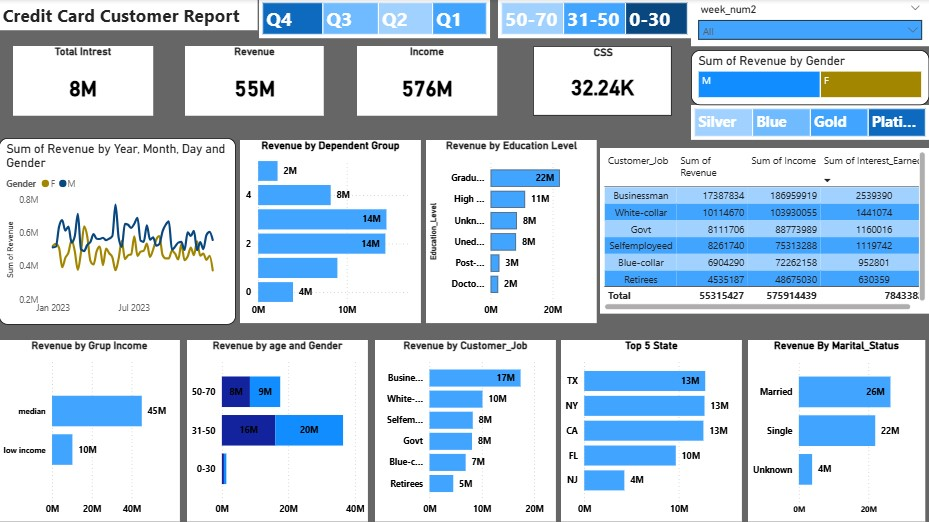

The dashboard page shown, as its layout file describes it:
{"tool":"powerbi","page":{"name":"c_customerc","canvas":[1280,720],"ordinal":1},"visuals":[{"type":"barChart","title":"Revenue by Grup Income","fields":{"Category":["customer.Grup_by_income"],"Y":["Sum(credit_card.Revenue)"]},"box":[0,469.3,249.1,250.5],"z":0},{"type":"tableEx","fields":{"Values":["customer.Customer_Job","Sum(credit_card.Revenue)","Sum(customer.Income)","Sum(credit_card.Interest_Earned)"]},"box":[827.2,205.1,452.8,228.5],"z":1000},{"type":"card","title":"Revenue","fields":{"Values":["Sum(credit_card.Revenue)"]},"box":[326.2,64.7,191.3,96.3],"z":2000},{"type":"card","title":"CSS","fields":{"Values":["Sum(customer.Cust_Satisfaction_Score)"]},"box":[744.6,64.7,191.3,96.3],"z":3000},{"type":"card","title":"Total Intrest","fields":{"Values":["Sum(credit_card.Interest_Earned)"]},"box":[125.2,60.6,192.7,96.3],"z":4000},{"type":"card","title":"Income","fields":{"Values":["Sum(customer.Income)"]},"box":[538.2,64.7,192.7,96.3],"z":5000},{"type":"textbox","box":[0,0,356.5,42.7],"z":6000},{"type":"slicer","fields":{"Values":["credit_card.week_num2"]},"box":[952.4,0,327.6,64.7],"z":7000},{"type":"treemap","fields":{"Group":["credit_card.Qtr"],"Values":["Avg(credit_card.Client_Num)"]},"box":[357.8,0,317.9,53.7],"z":8000},{"type":"treemap","fields":{"Values":["Avg(credit_card.Client_Num)"],"Group":["customer.Grup_by_age"]},"box":[686.8,0,265.6,53.7],"z":9000},{"type":"treemap","fields":{"Values":["Avg(credit_card.Client_Num)"],"Group":["credit_card.Card_Category"]},"box":[952.4,145.9,327.6,48.2],"z":10000},{"type":"lineChart","fields":{"Series":["customer.Gender"],"Category":["credit_card.Week_Start_Date.Variation.Date Hierarchy.Year","credit_card.Week_Start_Date.Variation.Date Hierarchy.Month","credit_card.Week_Start_Date.Variation.Date Hierarchy.Day"],"Y":["Sum(credit_card.Revenue)"]},"box":[0,191.3,326.2,257.4],"z":11000},{"type":"treemap","fields":{"Group":["customer.Gender"],"Values":["Sum(credit_card.Revenue)"]},"box":[952.4,70.2,327.6,75.7],"z":12000},{"type":"barChart","title":" Revenue by age and Gender","fields":{"Category":["customer.Grup_by_age"],"Y":["Sum(credit_card.Revenue)"],"Series":["customer.Gender"]},"box":[258.8,469.5,249.1,250.5],"z":13000},{"type":"barChart","title":"Revenue by Customer_Job","fields":{"Category":["customer.Customer_Job"],"Y":["Sum(credit_card.Revenue)"]},"box":[517.5,469.5,249.1,250.5],"z":14000},{"type":"barChart","title":"Revenue by Education Level","fields":{"Category":["customer.Education_Level"],"Y":["Sum(credit_card.Revenue)"]},"box":[587.7,194.1,235.4,251.9],"z":15000},{"type":"barChart","title":"Top 5 State","fields":{"Category":["customer.state_cd"],"Y":["Sum(credit_card.Revenue)"]},"box":[773.5,469.5,249.1,250.5],"z":16000},{"type":"barChart","title":"Revenue by Dependent Group","fields":{"Category":["customer.Dependent_Count"],"Y":["Sum(credit_card.Revenue)"]},"box":[331.7,194.1,249.1,251.9],"z":17000},{"type":"barChart","title":"Revenue By Marital_Status","fields":{"Category":["customer.Marital_Status"],"Y":["Sum(credit_card.Revenue)"]},"box":[1030.9,469.3,243.6,250.5],"z":18000}]}

Visuals, with their boxes in screenshot pixels (x1, y1, x2, y2), scaled from the page's 1280x720 canvas onto the 929x522 screenshot:
"Revenue by Grup Income" barChart: detection(0, 340, 181, 521)
tableEx - customer.Customer_Job x Sum(credit_card.Revenue): detection(600, 149, 928, 314)
"Revenue" card: detection(237, 47, 376, 117)
"CSS" card: detection(540, 47, 679, 117)
"Total Intrest" card: detection(91, 44, 231, 114)
"Income" card: detection(391, 47, 530, 117)
textbox: detection(0, 0, 259, 31)
slicer - credit_card.week_num2: detection(691, 0, 928, 47)
treemap - credit_card.Qtr x Avg(credit_card.Client_Num): detection(260, 0, 490, 39)
treemap - Avg(credit_card.Client_Num) x customer.Grup_by_age: detection(498, 0, 691, 39)
treemap - Avg(credit_card.Client_Num) x credit_card.Card_Category: detection(691, 106, 928, 141)
lineChart - customer.Gender x credit_card.Week_Start_Date.Variation.Date Hierarchy.Year: detection(0, 139, 237, 325)
treemap - customer.Gender x Sum(credit_card.Revenue): detection(691, 51, 928, 106)
" Revenue by age and Gender" barChart: detection(188, 340, 369, 521)
"Revenue by Customer_Job" barChart: detection(376, 340, 556, 521)
"Revenue by Education Level" barChart: detection(427, 141, 597, 323)
"Top 5 State" barChart: detection(561, 340, 742, 521)
"Revenue by Dependent Group" barChart: detection(241, 141, 422, 323)
"Revenue By Marital_Status" barChart: detection(748, 340, 925, 521)
